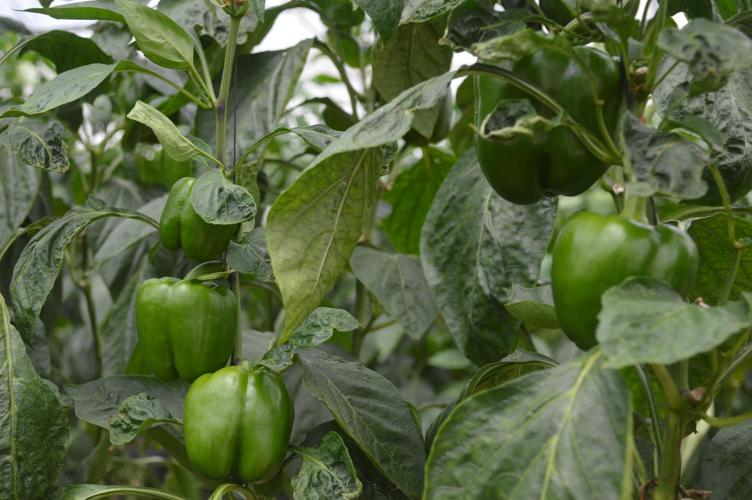BellPepper: (465, 41, 632, 204), (548, 212, 697, 346), (173, 367, 293, 485), (129, 281, 239, 373), (154, 179, 235, 255), (134, 141, 189, 185)
